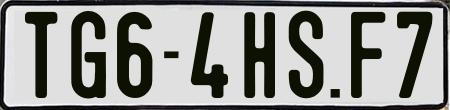4: (191, 10, 234, 100)
6: (115, 11, 156, 97)
7: (395, 10, 431, 96)
F: (348, 11, 383, 102)
G: (70, 9, 110, 99)
H: (243, 11, 276, 97)
S: (288, 9, 327, 99)
T: (22, 10, 58, 102)
